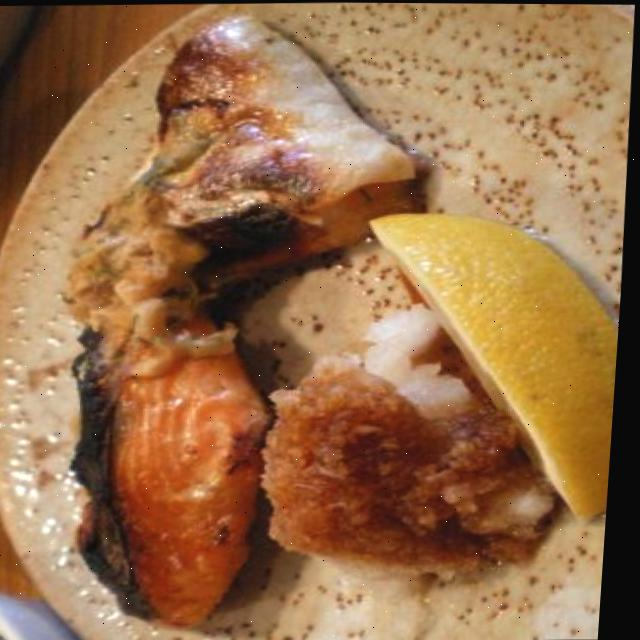熟制海鲜: (40, 19, 449, 629)
